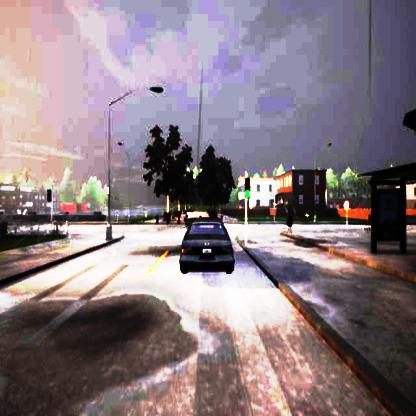vehicle: (179, 220, 236, 275)
